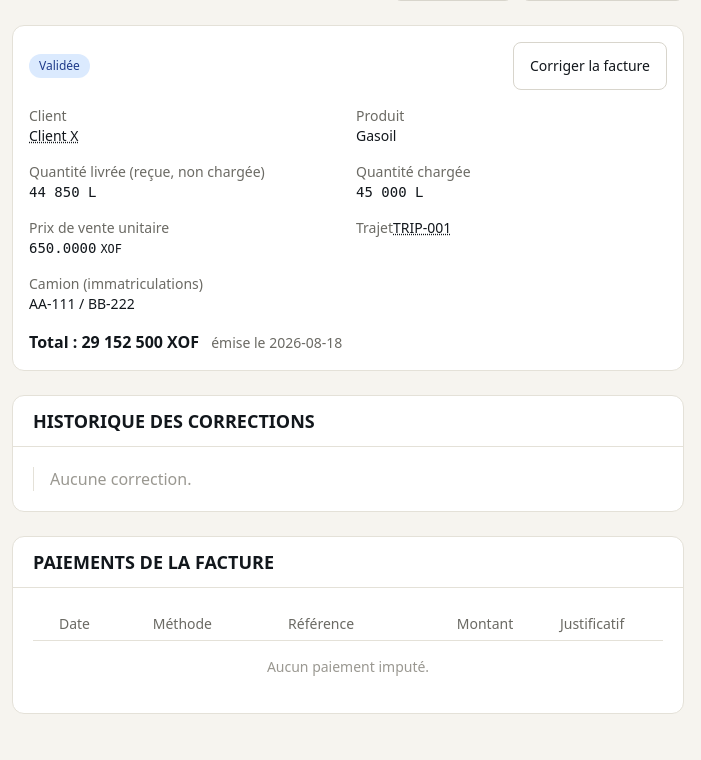
Test: InvoiceDetail › submits an audited correction and shows it in the history
The image size is (701, 760).
Click the button with id "correct-invoice" at (590, 66), box 513,42 -> 667,90
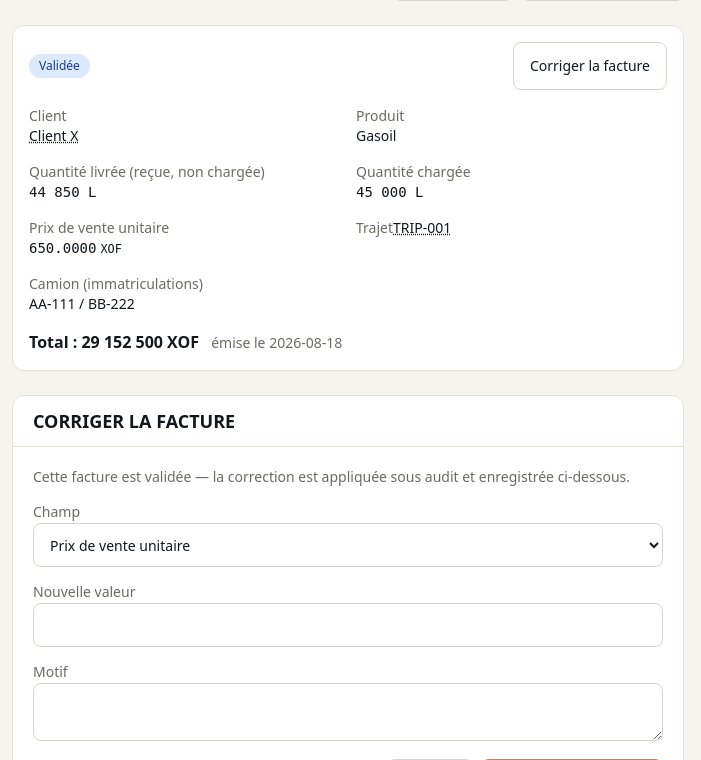
Select "Prix de vente unitaire" in the dropdown with id "correction_field" at (348, 545), box 33,523 -> 663,567
Type "605.0000" into the field with id "correction_new_value" at (348, 625), box 33,603 -> 663,647
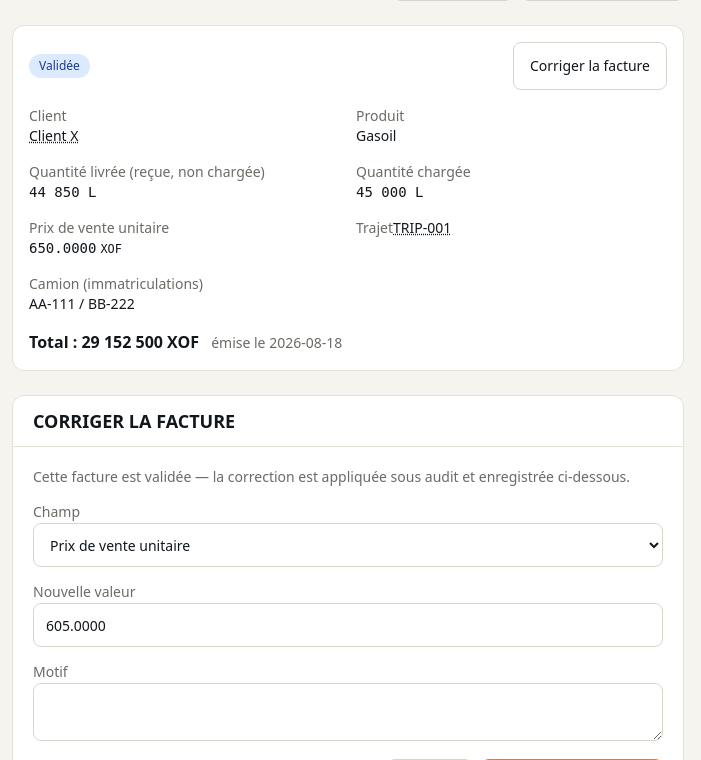
Type "Erreur de saisie contractuelle" into the text box with id "correction_reason" at (348, 712), box 33,683 -> 663,741
(page scrolled)
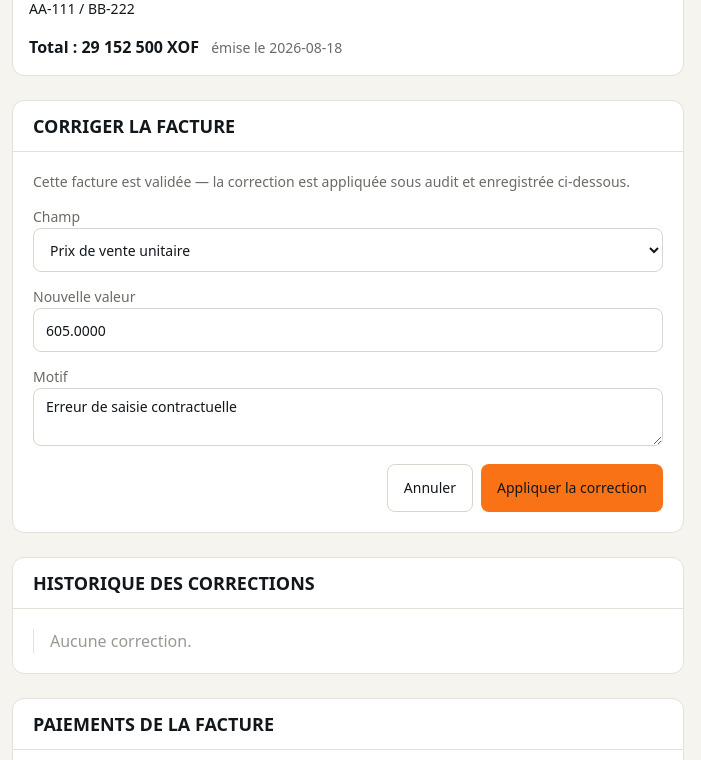
Submit the form with id "correction-form", box 33,204 -> 663,512
(page scrolled)
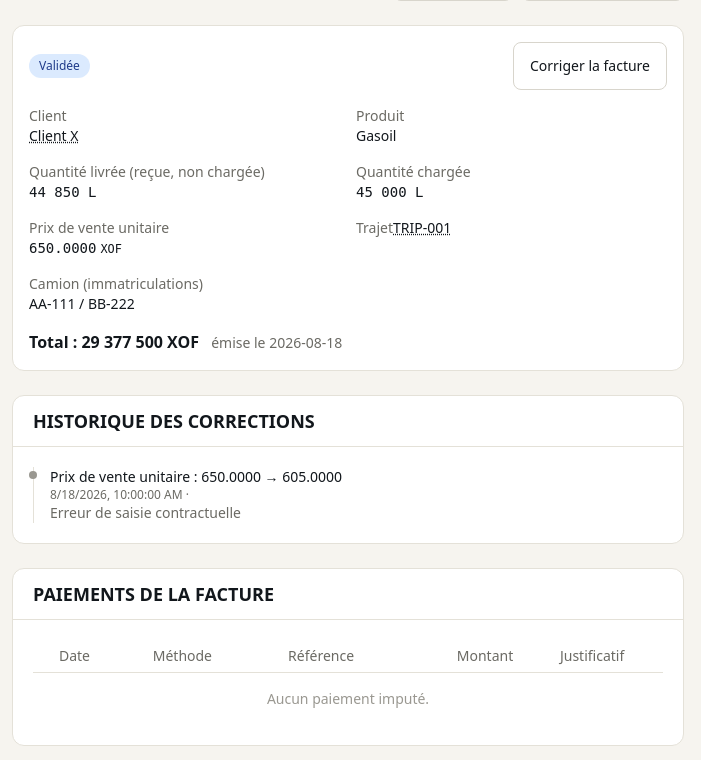
Check: the text "Erreur de saisie contractuelle" is shown, box 50,503 -> 241,522
Check: the text "Prix de vente unitaire : 650.0000" is shown, box 50,467 -> 342,486
